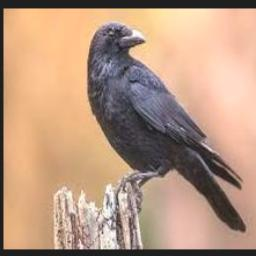Crow: (88, 22, 248, 233)
